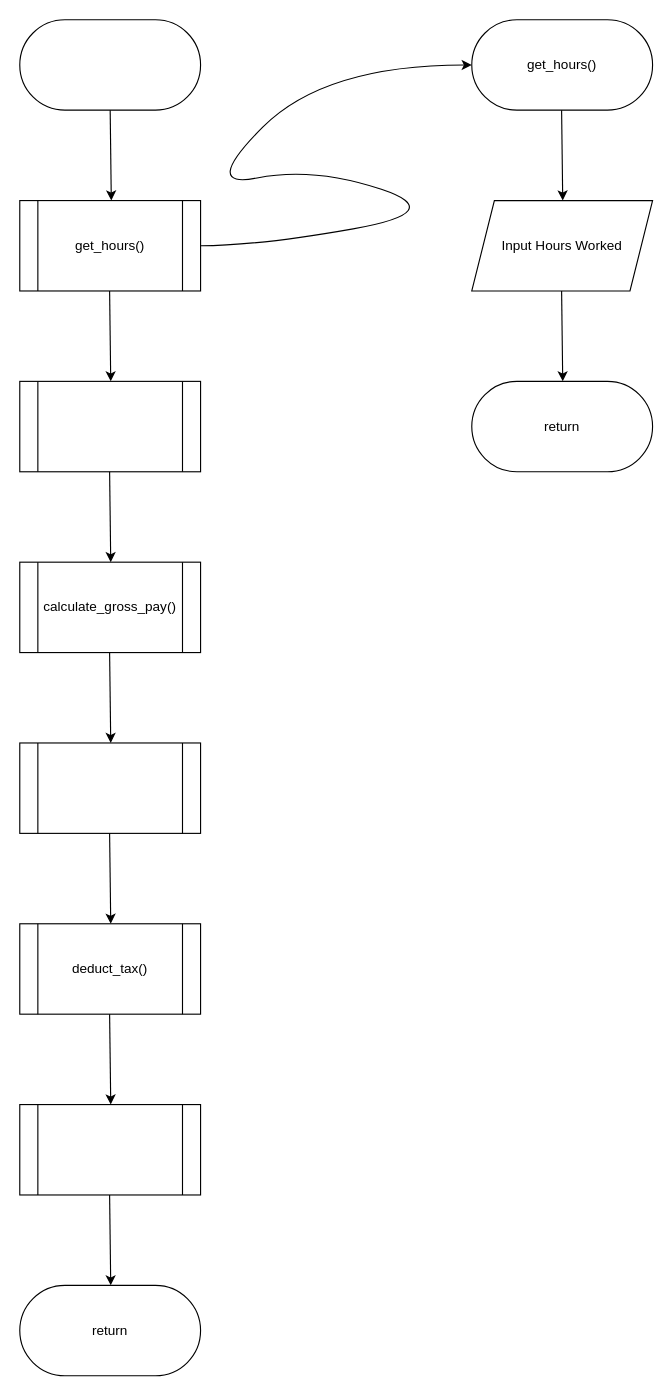
This 672x1396 diagram has some shape labels left out. The centre of each missing label's shape, as x and y in pixels:
"calculate_net_pay()" belongs at point 110,787.
"get_base_pay()" belongs at point 110,426.
"main()" belongs at point 110,64.
"print_statement()" belongs at point 110,1149.
